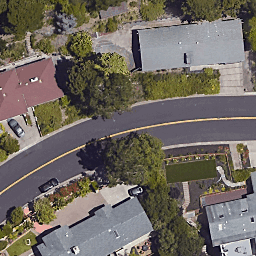car: (7, 118, 27, 138), (39, 177, 57, 193), (129, 184, 143, 195)
